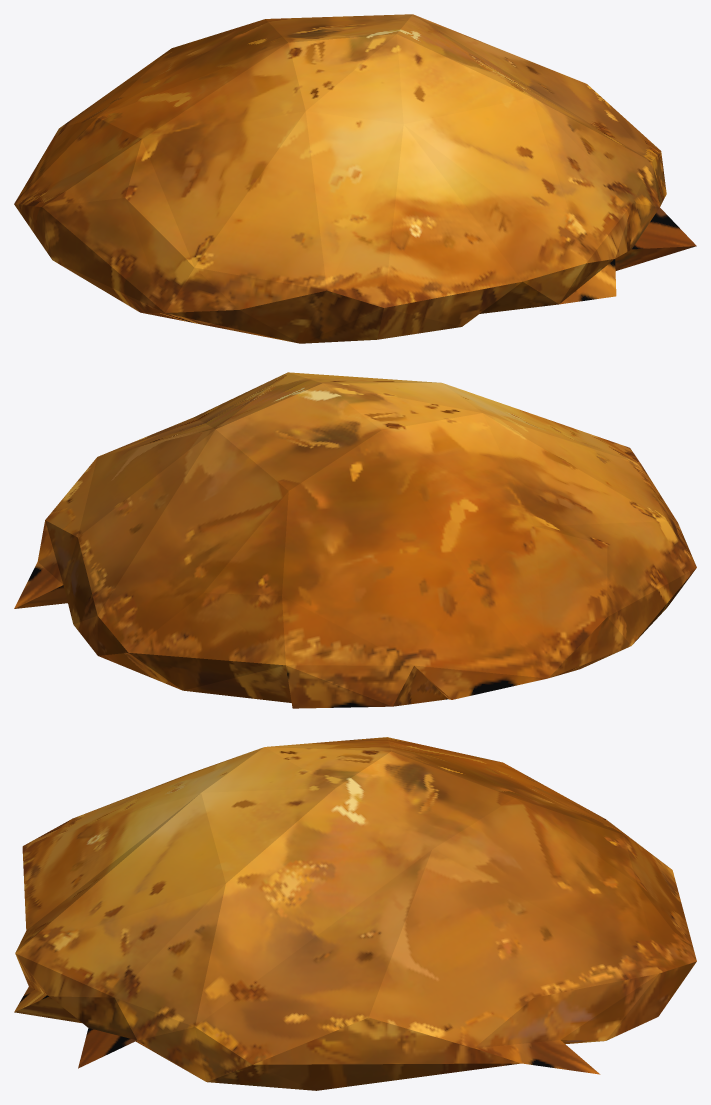
Rendered from hay_pile_lod1.glb.
3 renders of one model, top to bottom at view 1: azimuth 30°, elevation 25°; view 2: azimuth 150°, elevation 25°; view 3: azimuth 270°, elevation 25°, orthographic. The views are drawn at different scales.
Visible parts, largest first — view 1: geometry_0; view 2: geometry_0; view 3: geometry_0.
Part boxes in pixels (x1,y1,x2,y2): geometry_0: (14, 14, 696, 343); geometry_0: (14, 372, 696, 708); geometry_0: (14, 737, 696, 1090).
Bounding box in the file's own units: 1.25 × 0.4211 × 1.24.
Materials: 1 (1 with a texture image).
